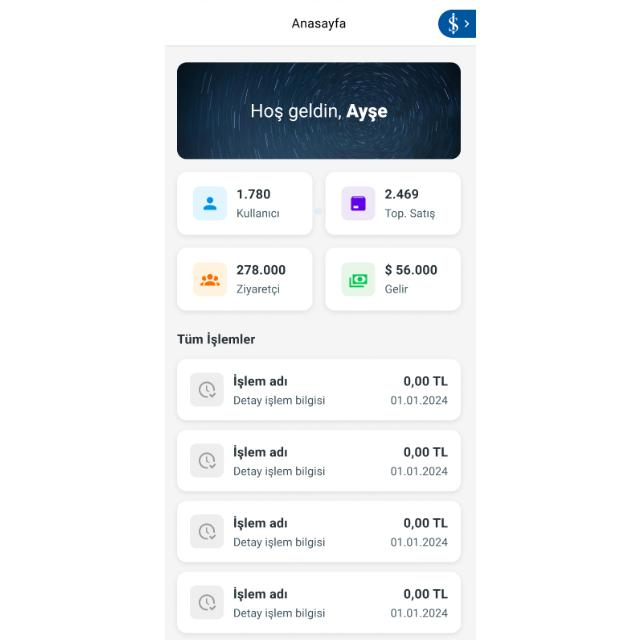QLabel: (230, 536, 326, 550), (230, 394, 326, 408), (230, 466, 326, 478), (231, 608, 327, 620), (173, 332, 254, 346), (230, 372, 288, 388), (231, 444, 287, 458), (232, 586, 286, 600), (389, 394, 448, 406), (389, 536, 448, 548), (231, 516, 287, 528), (384, 264, 438, 276), (384, 207, 436, 219), (389, 466, 448, 476), (389, 608, 448, 618), (400, 375, 448, 387), (233, 284, 280, 296), (402, 446, 448, 458), (402, 517, 448, 529), (402, 588, 448, 600), (236, 208, 280, 220), (236, 265, 286, 275), (234, 188, 272, 200), (384, 189, 418, 199), (383, 283, 409, 295)
VAppBar: (164, 0, 476, 48), (288, 16, 346, 32)
VCard: (174, 500, 463, 566), (173, 430, 464, 494), (175, 358, 462, 422), (175, 572, 462, 636), (323, 172, 462, 238), (324, 248, 462, 312), (175, 172, 312, 236), (175, 248, 312, 312)
VImg: (176, 62, 460, 160), (340, 261, 376, 297), (188, 443, 224, 477), (340, 186, 376, 220), (188, 372, 222, 406), (189, 515, 223, 549), (189, 586, 223, 620), (192, 186, 226, 220), (438, 8, 476, 38), (192, 261, 225, 295)
